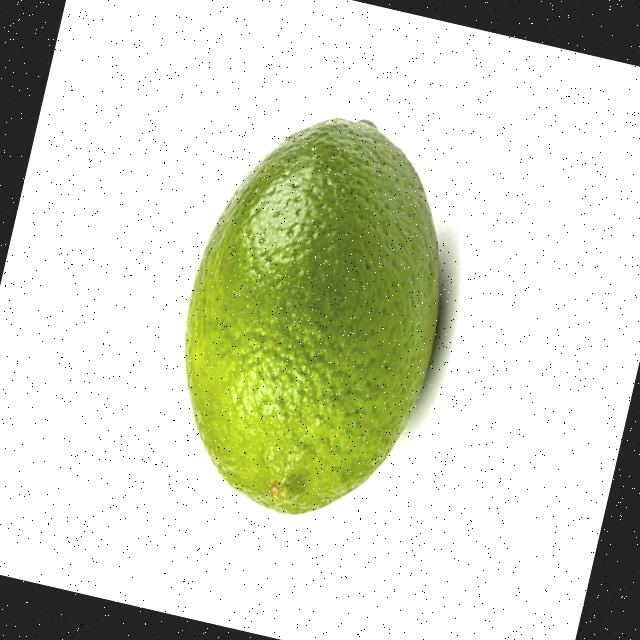Unripe: (145, 82, 482, 540)
